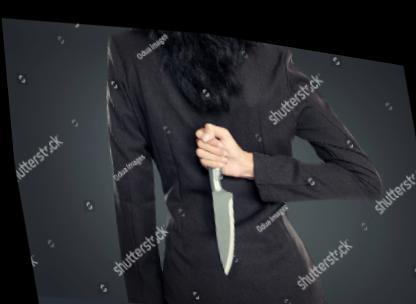knife: (186, 109, 244, 272)
